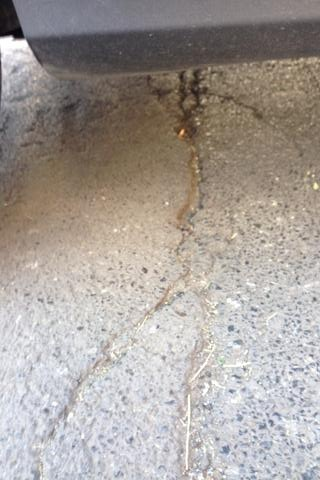A: (146, 68, 228, 480), (20, 306, 145, 480)
